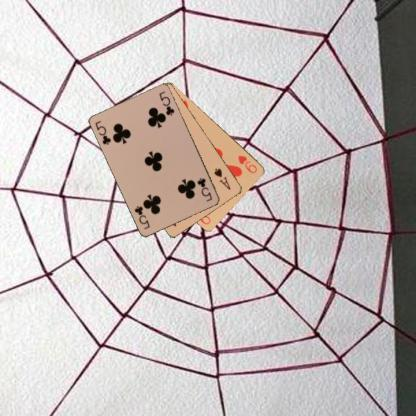5c: (93, 119, 113, 146), (194, 176, 214, 202)
9h: (236, 152, 258, 174)
As: (212, 165, 232, 191)
